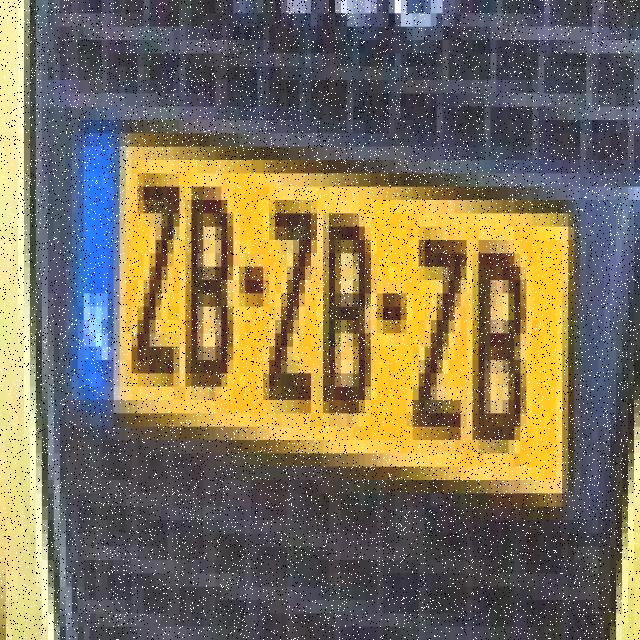licenseplate: (63, 84, 582, 539)
